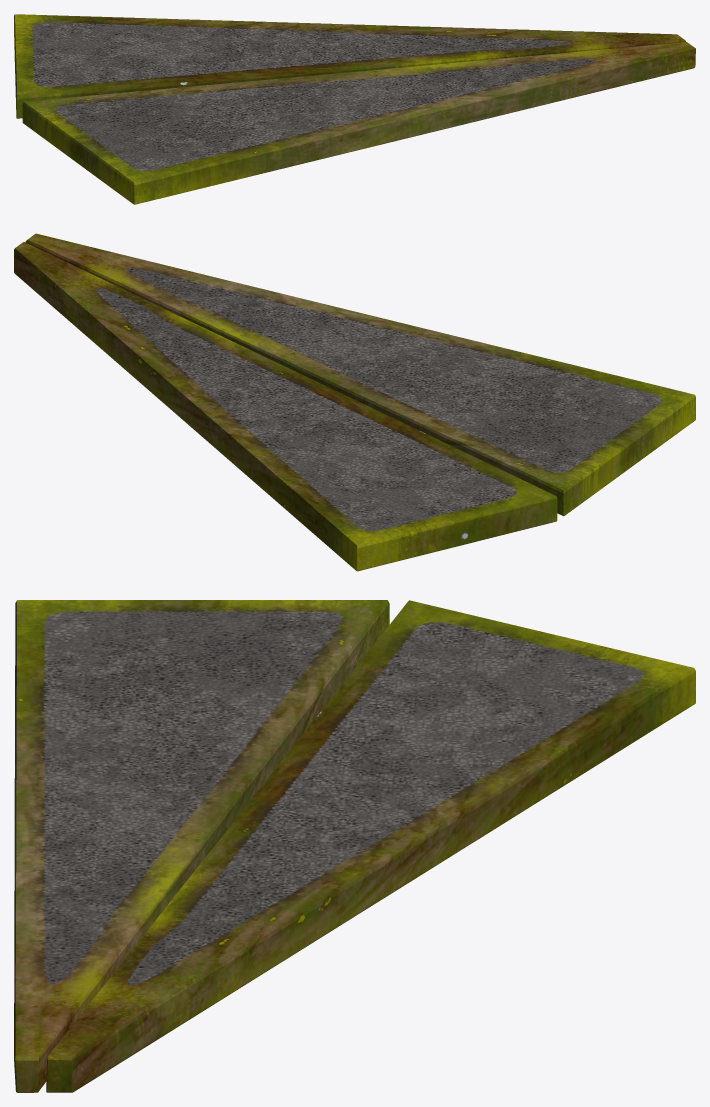
Rendered from PNW Pathway_Curve_36_R_Grip.glb.
The picture shows the model from 3 angles, top to bottom: view 1: azimuth 30°, elevation 25°; view 2: azimuth 150°, elevation 25°; view 3: azimuth 270°, elevation 25°; orthographic projection. The views are drawn at different scales.
Visible parts, largest first — view 1: Curve_36_R_Grip; view 2: Curve_36_R_Grip; view 3: Curve_36_R_Grip.
Part boxes in pixels (x1,y1,x2,y2): Curve_36_R_Grip: (14,14,695,204); Curve_36_R_Grip: (14,233,695,571); Curve_36_R_Grip: (14,600,695,1092).
Size of the model in its own units: 1.52 by 0.057 by 0.956.
1 material, 1 textured.
